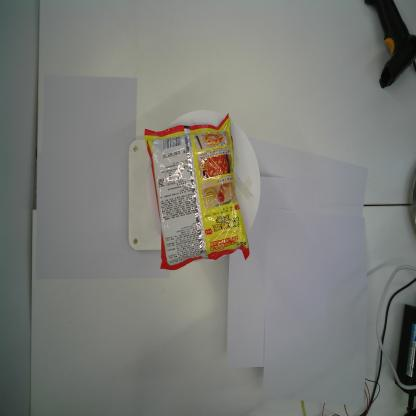Instant Noodles: (143, 111, 251, 273)
